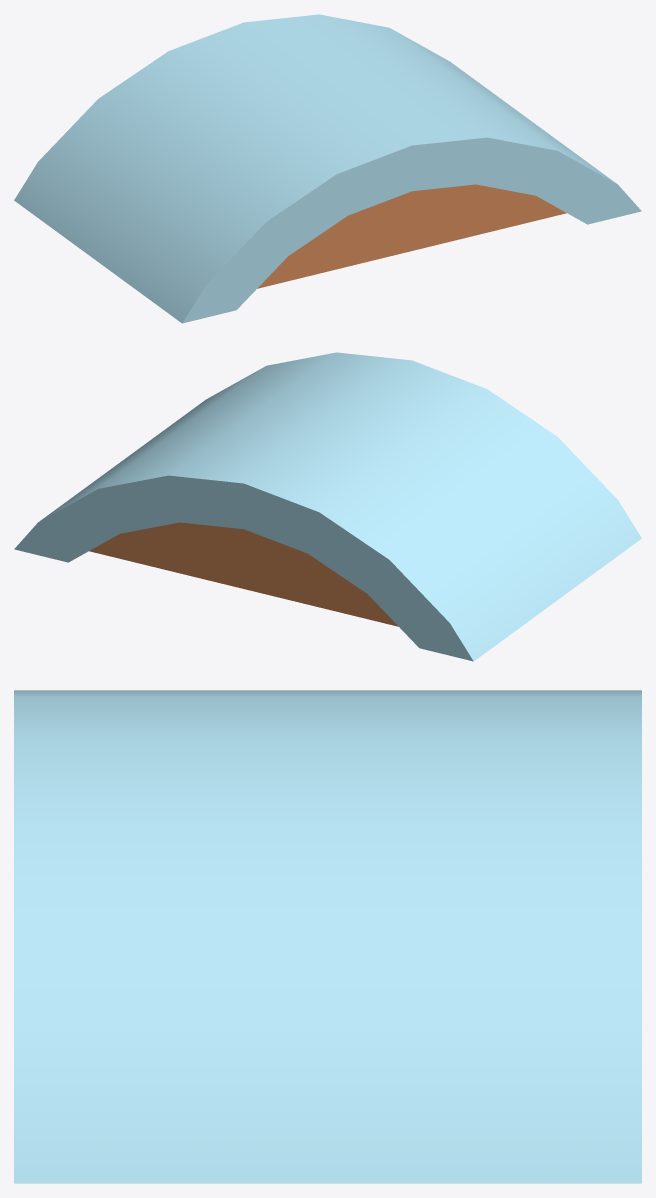
Rendered from blockSnowCurveLow.obj.
The picture shows the model from 3 angles, top to bottom: view 1: azimuth 30°, elevation 25°; view 2: azimuth 150°, elevation 25°; view 3: azimuth 270°, elevation 25°; orthographic projection. The views are drawn at different scales.
Parts seen in each view (by area): view 1: blockSnowCurveLow; view 2: blockSnowCurveLow; view 3: blockSnowCurveLow.
Part boxes in pixels (box(x1,y1,x2,y2)): blockSnowCurveLow: box(14, 14, 641, 323); blockSnowCurveLow: box(14, 352, 641, 661); blockSnowCurveLow: box(14, 690, 641, 1183).
Bounding box in the file's own units: 1.58 × 0.4 × 1.
